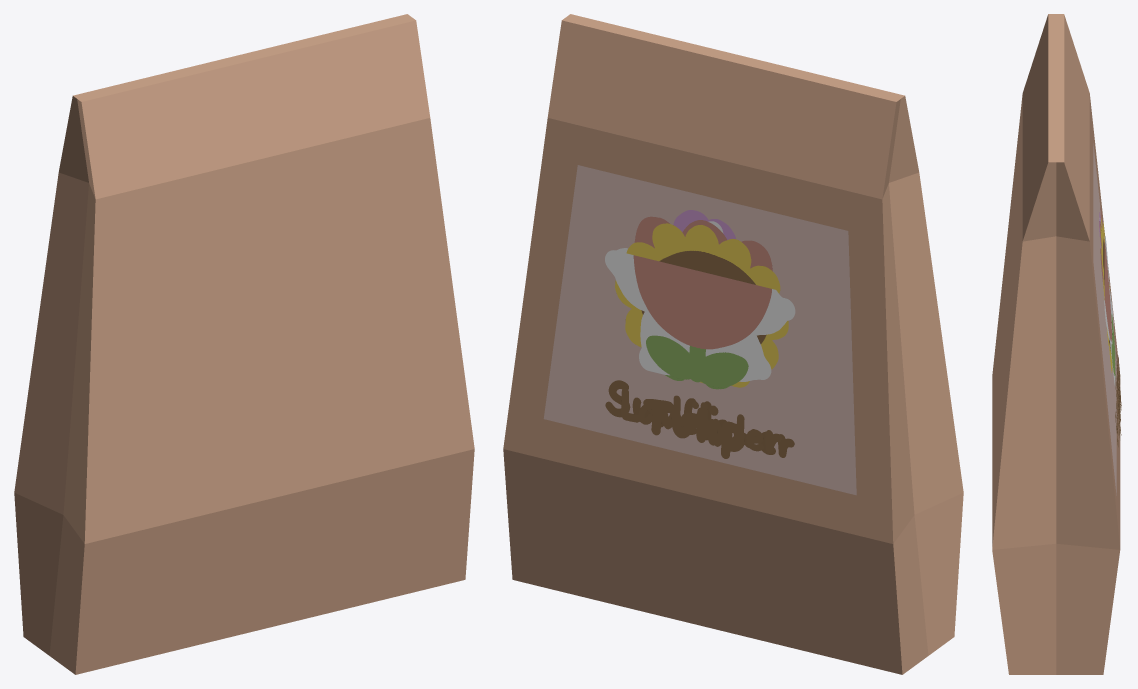
Rendered from NutrientBag.fbx.
The picture shows the model from 3 angles, left to right: view 1: azimuth 30°, elevation 25°; view 2: azimuth 150°, elevation 25°; view 3: azimuth 270°, elevation 25°; orthographic projection. The views are drawn at different scales.
Visible parts, largest first — view 1: Cube; view 2: Cube, TulipIcon, FlowerIcon_, LilyIcon, LavenderIcon; view 3: Cube, TulipIcon, FlowerIcon_, LilyIcon.
Boxes of the visible parts, x1=… form: Cube: x1=14, y1=14, x2=474, y2=674; Cube: x1=503, y1=14, x2=963, y2=674; TulipIcon: x1=633, y1=216, x2=772, y2=458; FlowerIcon_: x1=605, y1=223, x2=794, y2=457; LilyIcon: x1=605, y1=221, x2=795, y2=446; LavenderIcon: x1=621, y1=210, x2=782, y2=453; Cube: x1=992, y1=14, x2=1120, y2=674; TulipIcon: x1=1099, y1=207, x2=1121, y2=435; FlowerIcon_: x1=1100, y1=217, x2=1118, y2=446; LilyIcon: x1=1099, y1=218, x2=1120, y2=411.
Bounding box in the file's own units: 0.2064 × 0.0664 × 0.2783.
